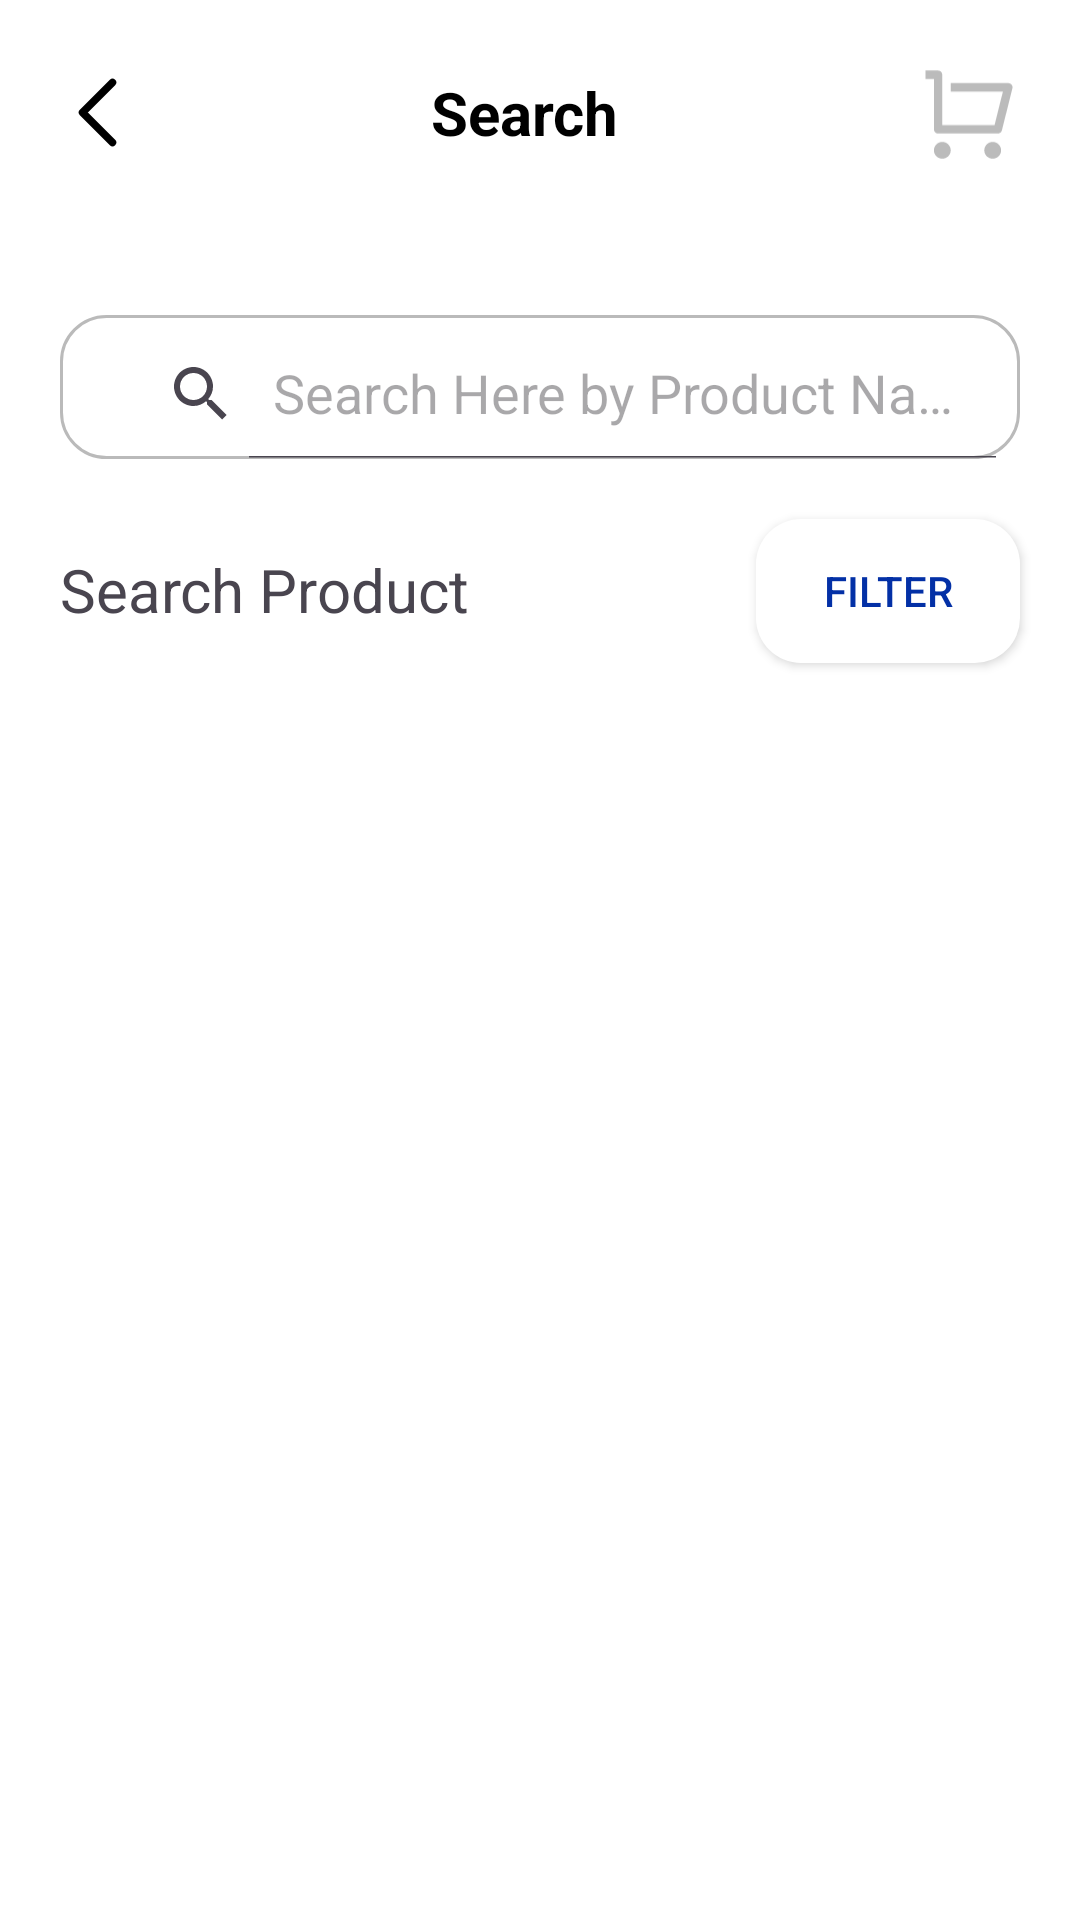

Icon bounding boxes for this 1080px×1920px phone screenshot, format (x1, y1, x2, y2):
cart: (925, 70, 1013, 159)
leftarrow: (78, 78, 117, 147)
